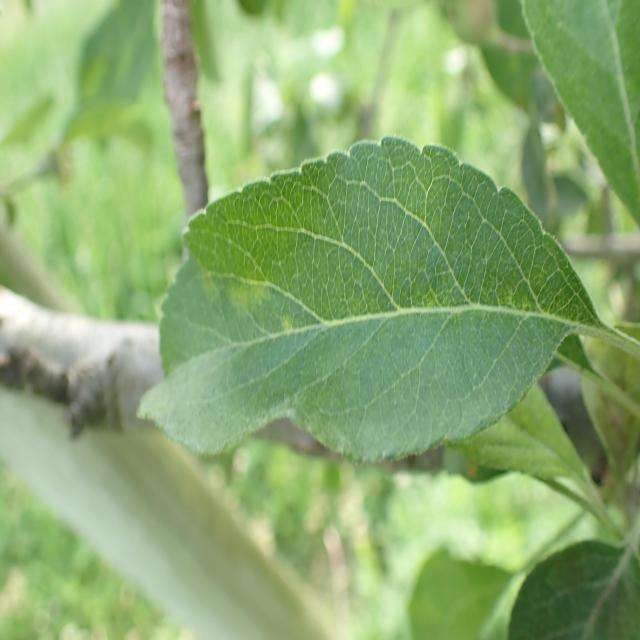scab: (156, 175, 582, 457)
